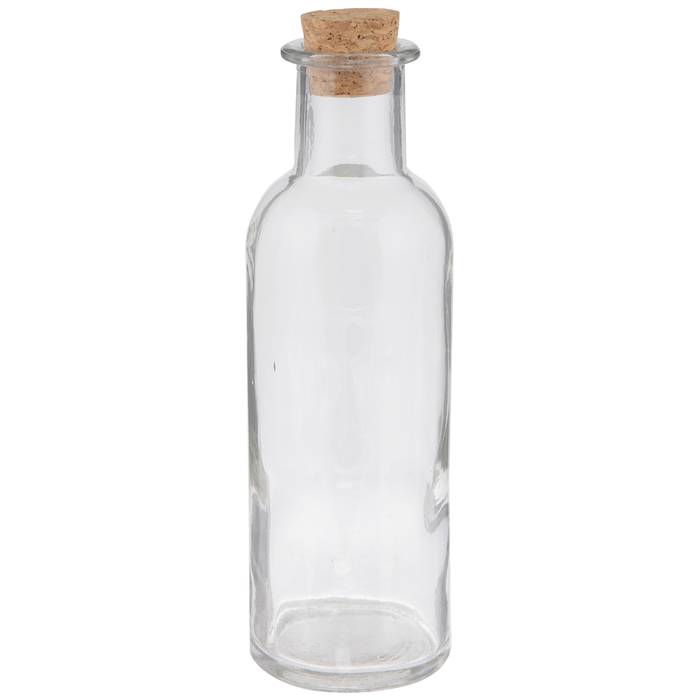glass_bottle: (238, 7, 460, 693)
